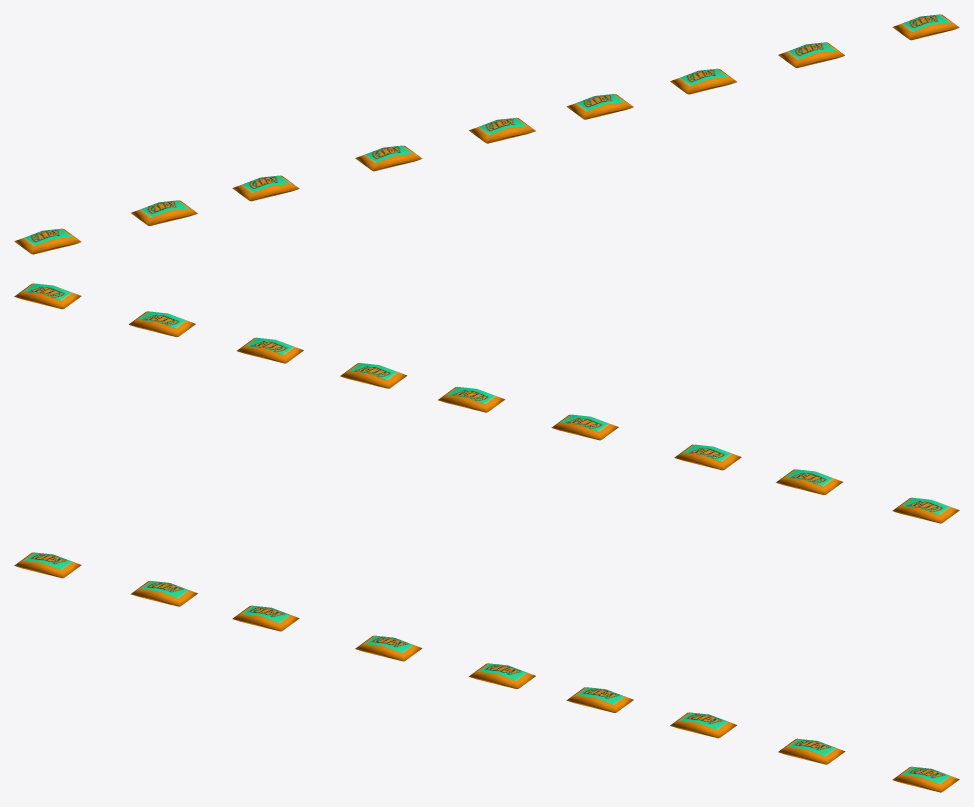
Rendered from Bundle_Candy_Greens.fbx.
3 views of the same model, one above another, from view 1: azimuth 30°, elevation 25°; view 2: azimuth 150°, elevation 25°; view 3: azimuth 330°, elevation 25° (orthographic).
Parts seen in each view (by area): view 1: Bundle_Candy_Green_1; view 2: Bundle_Candy_Green_1; view 3: Bundle_Candy_Green_1.
Part boxes in pixels (x1,y1,x2,y2): Bundle_Candy_Green_1: (14,14,959,254); Bundle_Candy_Green_1: (14,283,959,523); Bundle_Candy_Green_1: (14,552,959,792).
Size of the model in its own units: 397 by 4.36 by 13.07.
